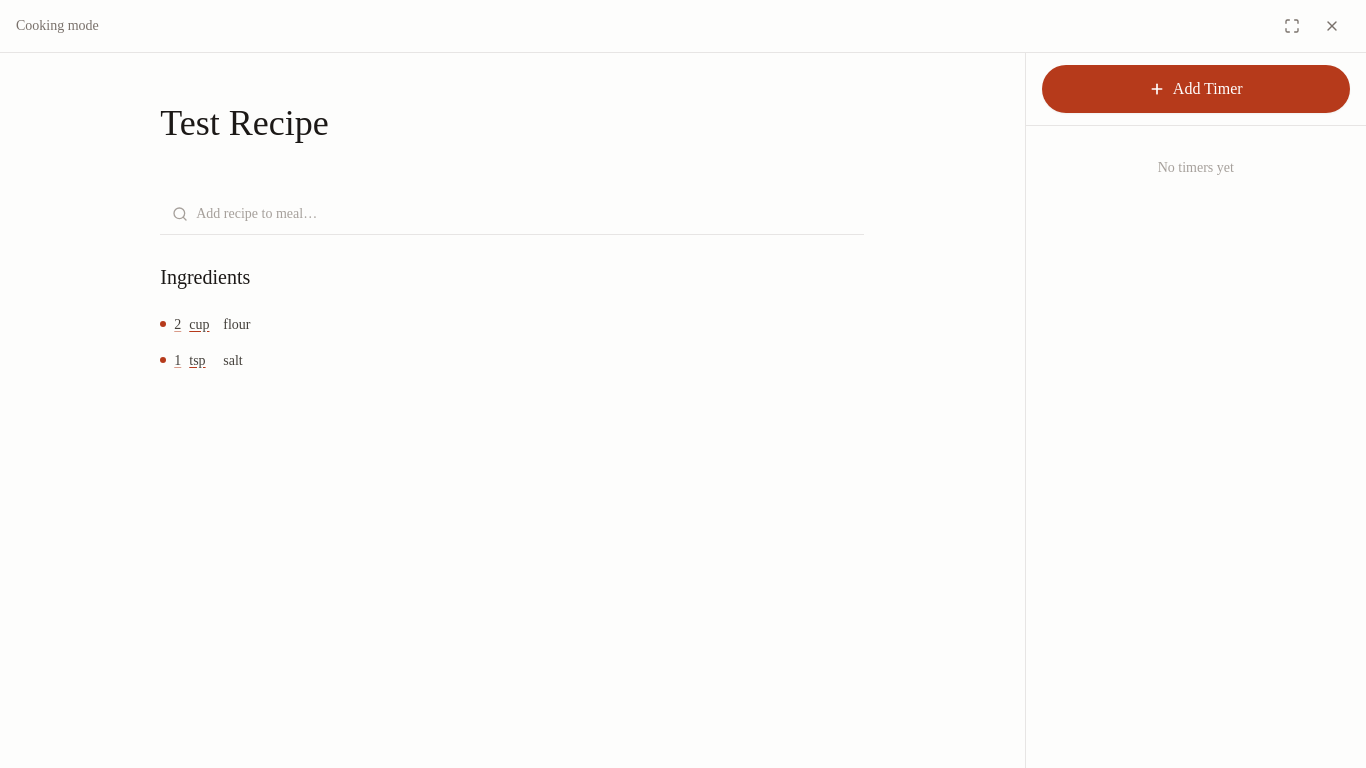
Test: CookingMode — shopping list › copy button becomes enabled when an ingredient is selected
Click the checkbox named "2 cups flour" in the row of "flour". click: point(163, 324)
box: [160,321,166,327]
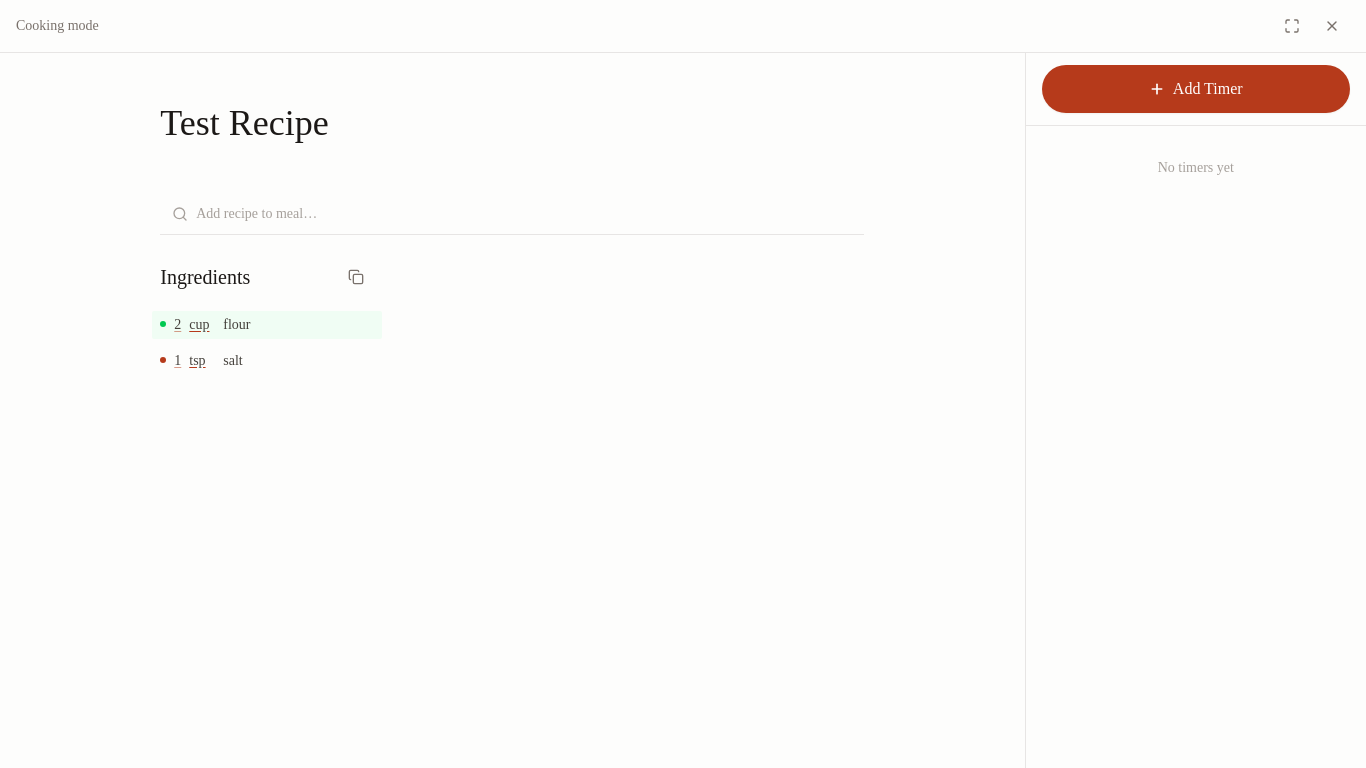
Check: the button named "copy shopping list, 1 item" is enabled, box [338,259,374,295]
